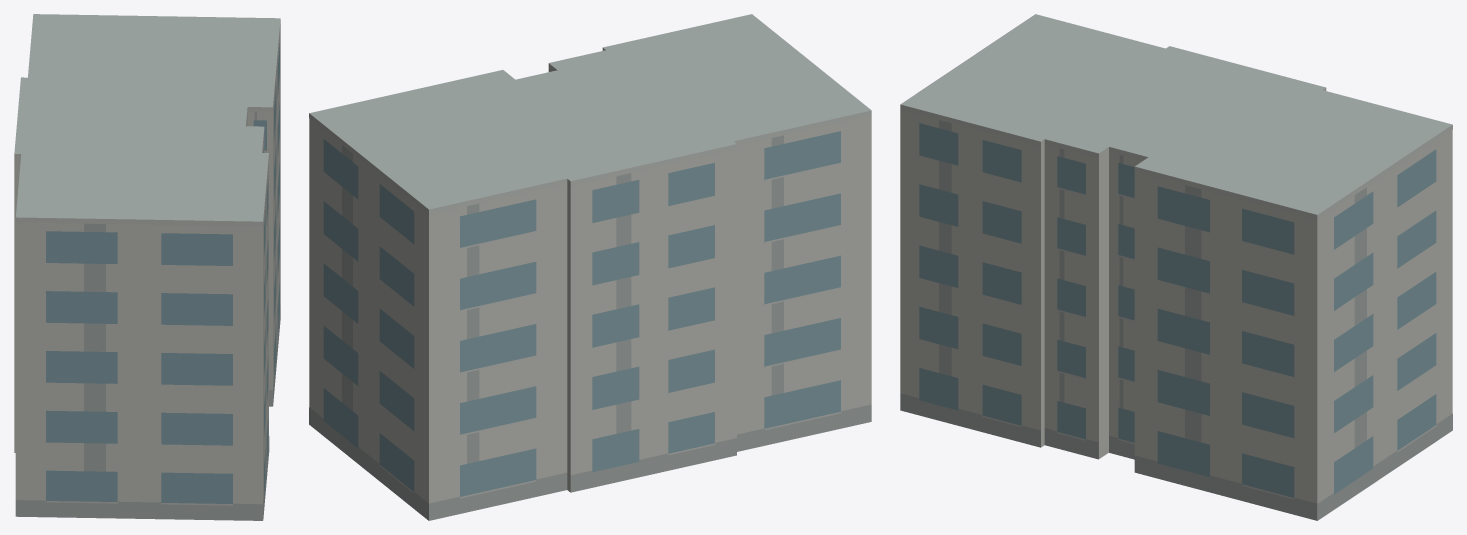
The model's file is survey-upis-32910722.glb.
The picture shows the model from 3 angles, left to right: view 1: azimuth 30°, elevation 25°; view 2: azimuth 150°, elevation 25°; view 3: azimuth 270°, elevation 25°; orthographic projection. The views are drawn at different scales.
Visible parts, largest first — view 1: survey-upis-32910722.tmp; view 2: survey-upis-32910722.tmp; view 3: survey-upis-32910722.tmp.
Part boxes in pixels (box(x1,y1,x2,y2)): survey-upis-32910722.tmp: box(14, 14, 280, 520); survey-upis-32910722.tmp: box(309, 14, 871, 520); survey-upis-32910722.tmp: box(900, 14, 1452, 520).
Bounding box in the file's own units: 20.15 × 14.3 × 23.41.
